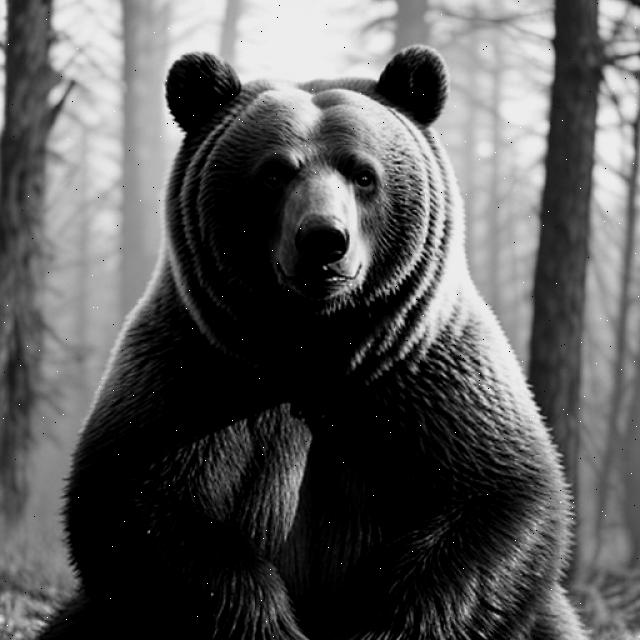bear: (53, 34, 574, 606)
